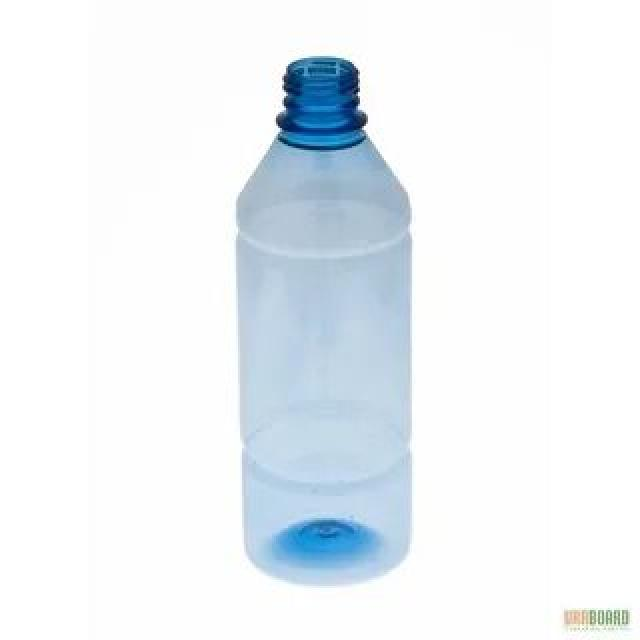blue: (237, 56, 413, 582)
